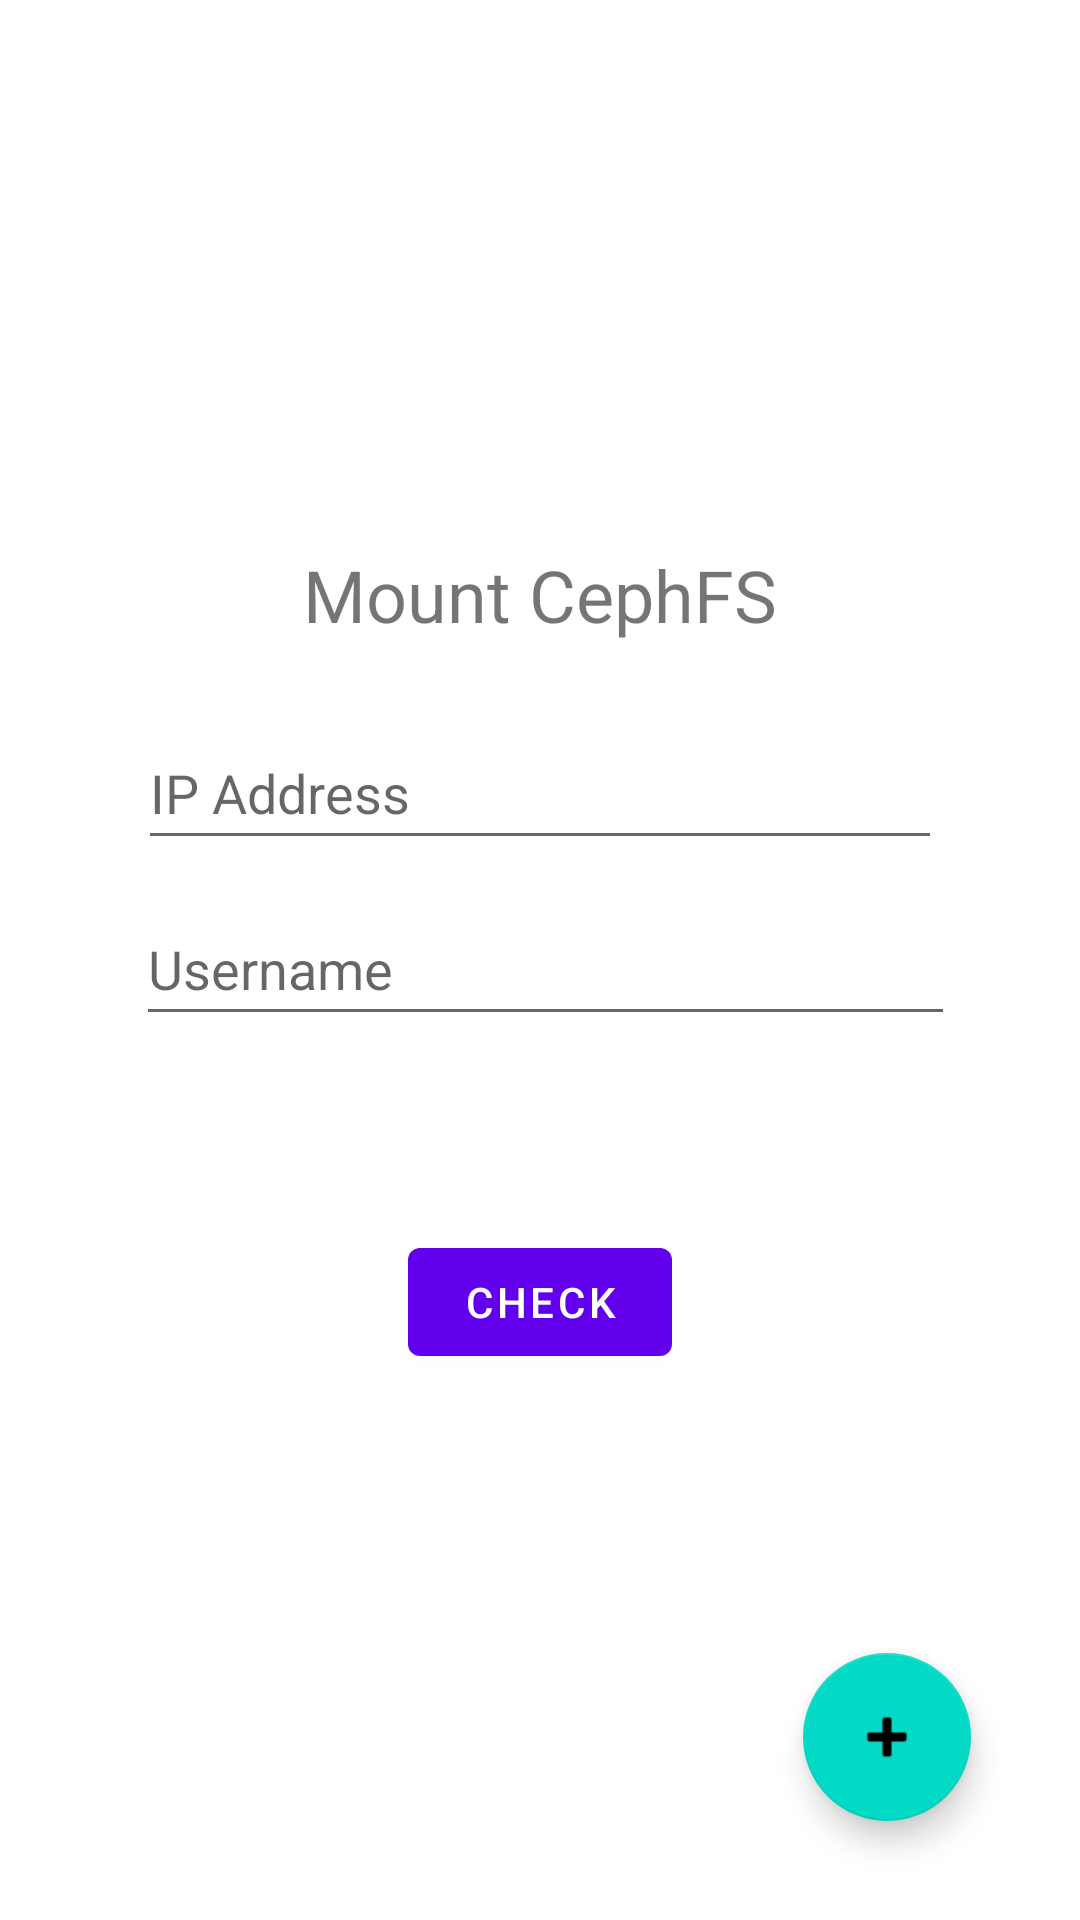

Where icons sit on this 1080×1920 app screen, as BBox(x1, y1, x2, y2):
add: BBox(803, 1653, 971, 1821)
